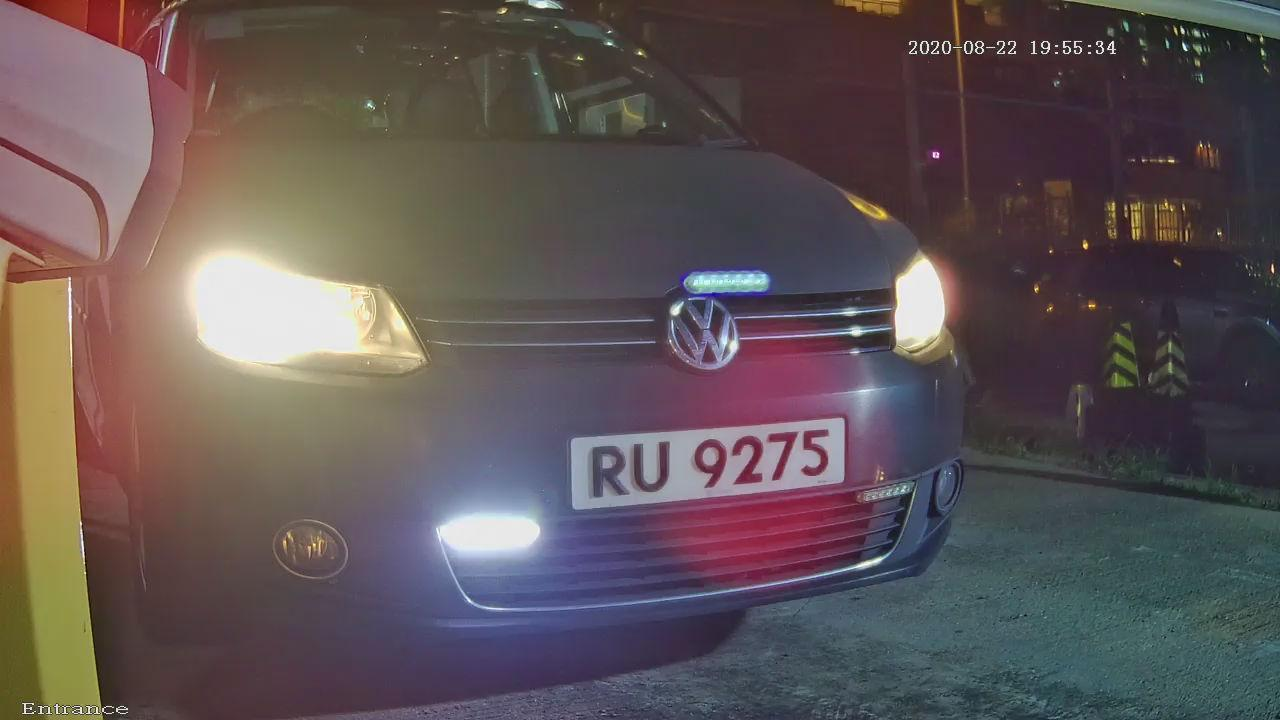Car: (35, 23, 1018, 720)
License Plate: (537, 393, 913, 545)
